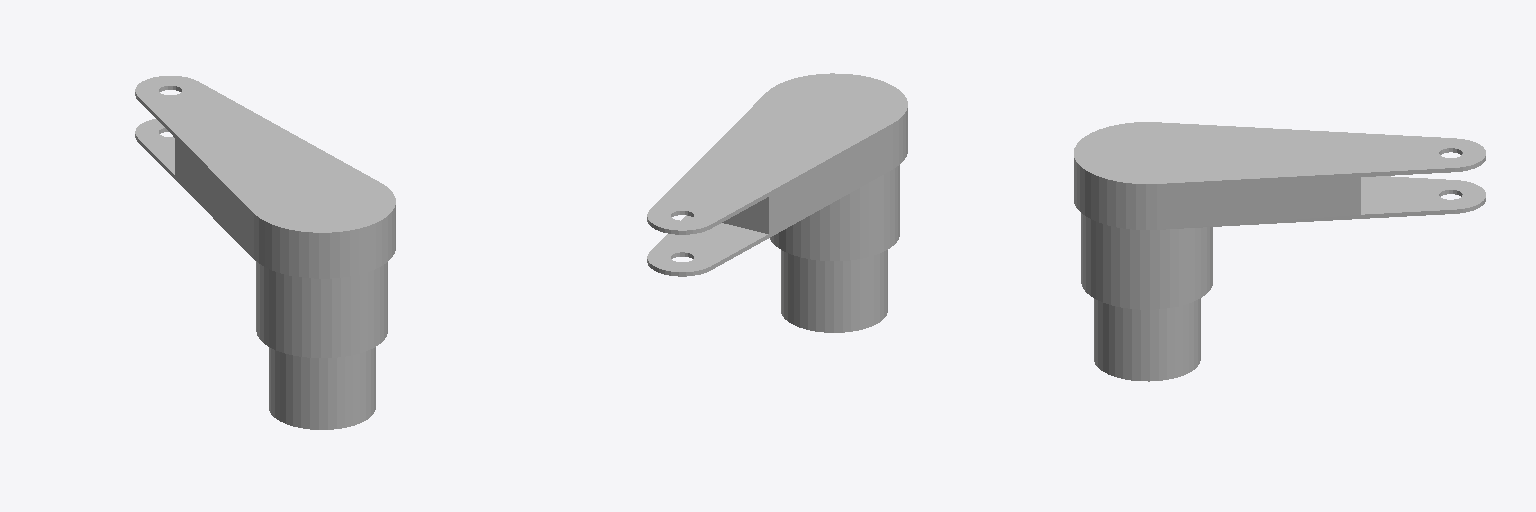
Rendered from thigh_franki.obj.
3 views of the same model, side by side, from view 1: azimuth 30°, elevation 25°; view 2: azimuth 150°, elevation 25°; view 3: azimuth 270°, elevation 25° (orthographic).
Parts seen in each view (by area): view 1: thigh; view 2: thigh; view 3: thigh.
Boxes of the visible parts, box(x1,y1,x2,y2) form: thigh: box(135, 76, 395, 429); thigh: box(647, 73, 907, 332); thigh: box(1074, 122, 1485, 381).
Bounding box in the file's own units: 0.125 × 0.1925 × 0.35.